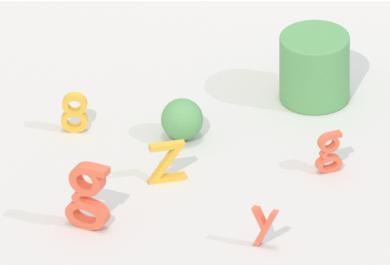0-KhoiTru: (274, 15, 356, 120)
0-Tron: (157, 94, 207, 146)
8: (58, 87, 91, 138)
Z: (142, 136, 191, 187)
g: (63, 159, 116, 236), (311, 127, 345, 178)
y: (247, 203, 283, 249)
